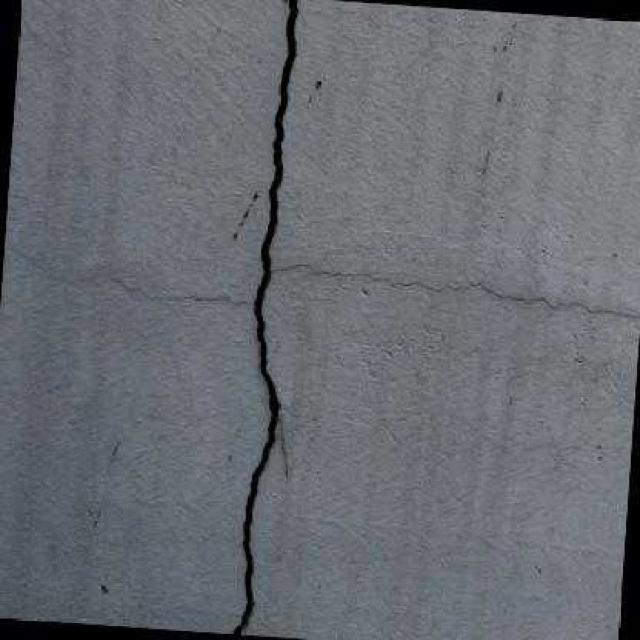D00: (234, 0, 299, 635)
